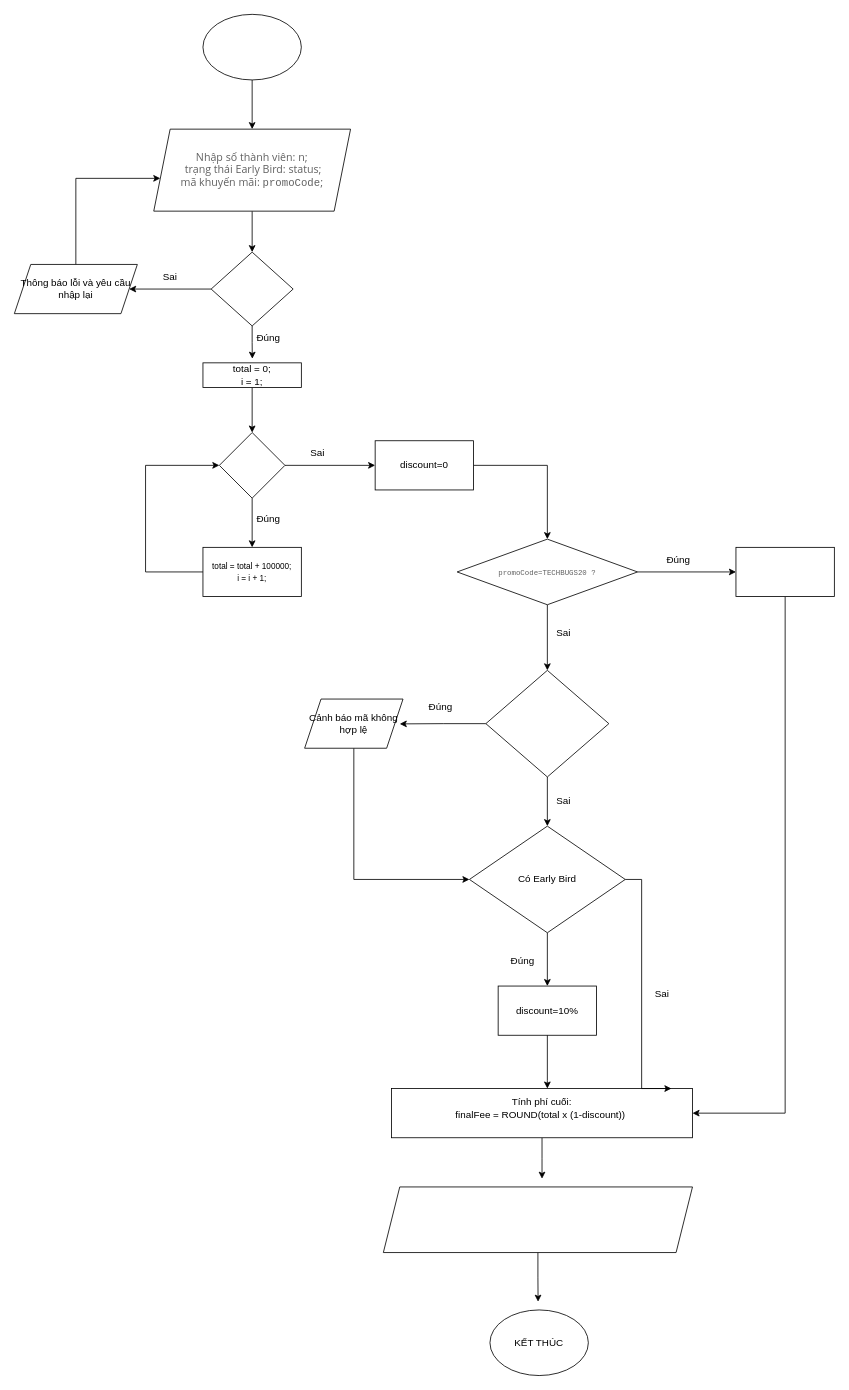
Some shapes in this 849 by 1390 pixel diagram are drawn without their labels. The shapes that lost their labels are listed below. From the top down, each one's centre as x and y in pixels, then its label:
the point at 251,47: BẮT ĐẦU
the point at 251,288: n ∈ ℤ⁺ ?
the point at 252,465: i =< n ?
the point at 784,572: discount=20%
the point at 547,723: promoCode != null
the point at 537,1219: Hiển thị tổng phí, discount, phải trả
